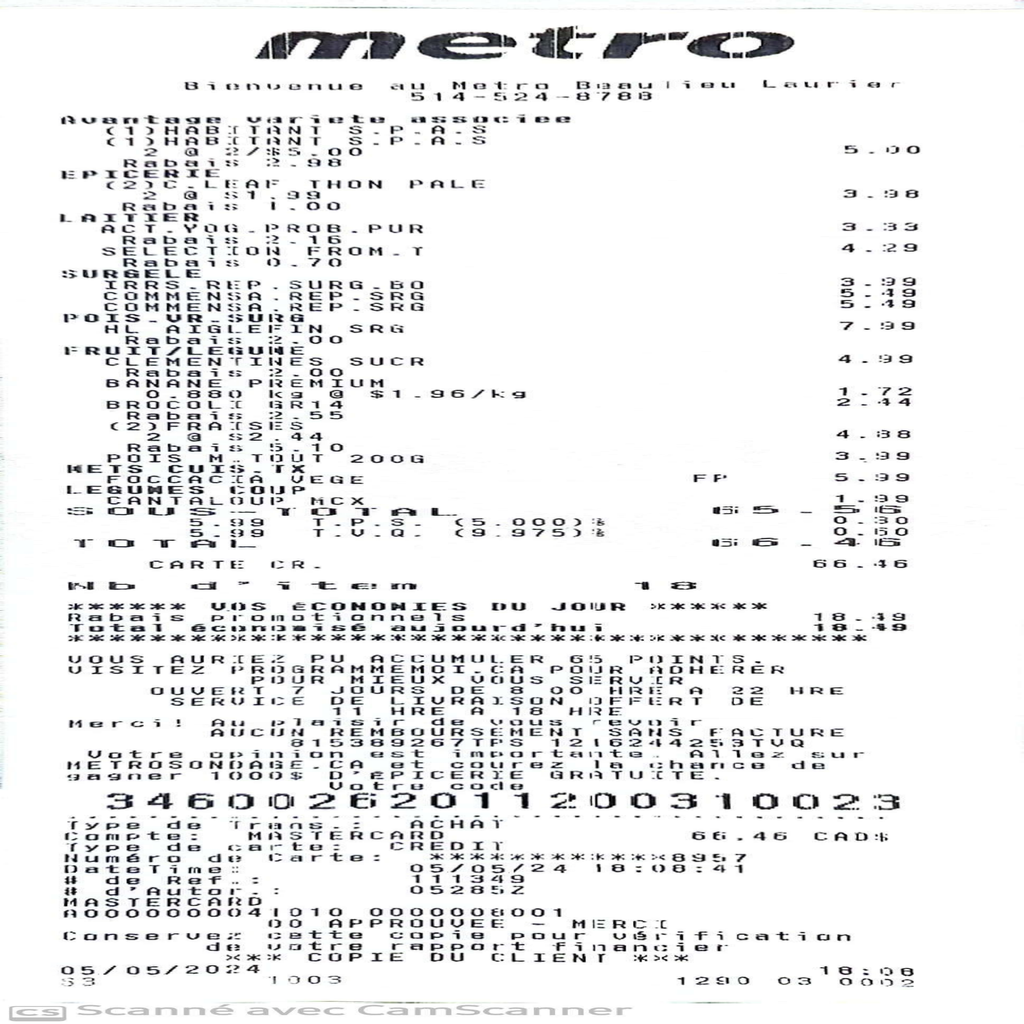recipt: (4, 0, 1022, 1020)
